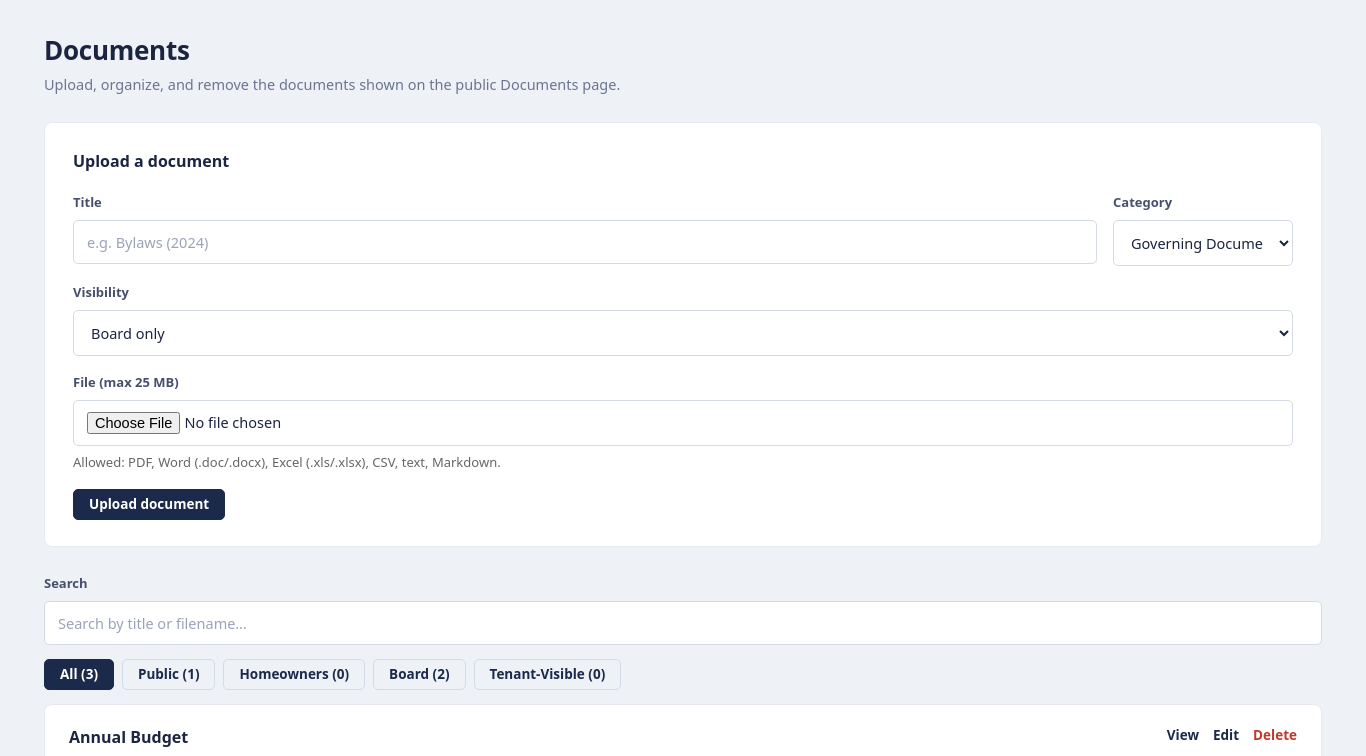
Test: DocumentsManager search › matches on filename when the title does not contain the query
Expected: the text "Annual Budget" is shown, [69,726,188,748]
Type "jan" into the search field with placeholder "Search by title or filename…" at (683, 623), box [44,601,1322,645]
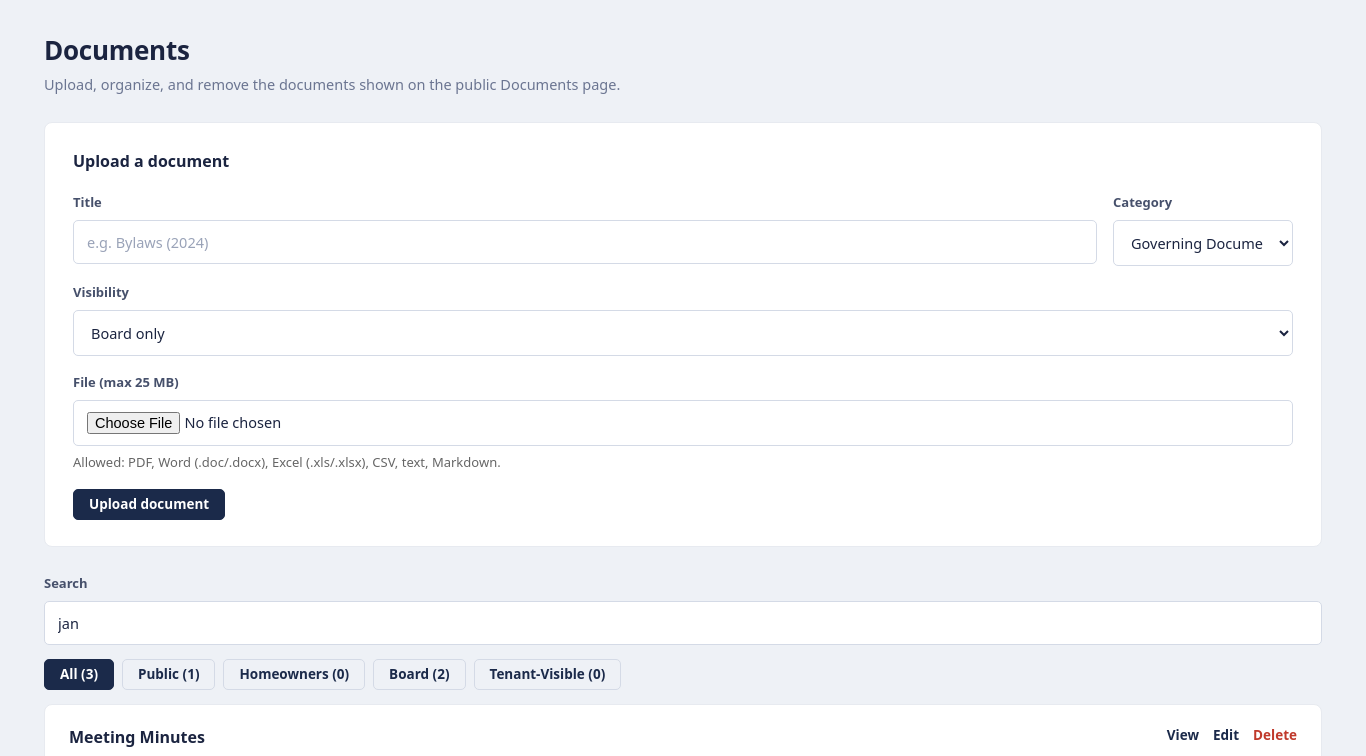
Expected: the text "Meeting Minutes" is shown, [69,726,205,748]
Result: the text "Annual Budget" is gone
